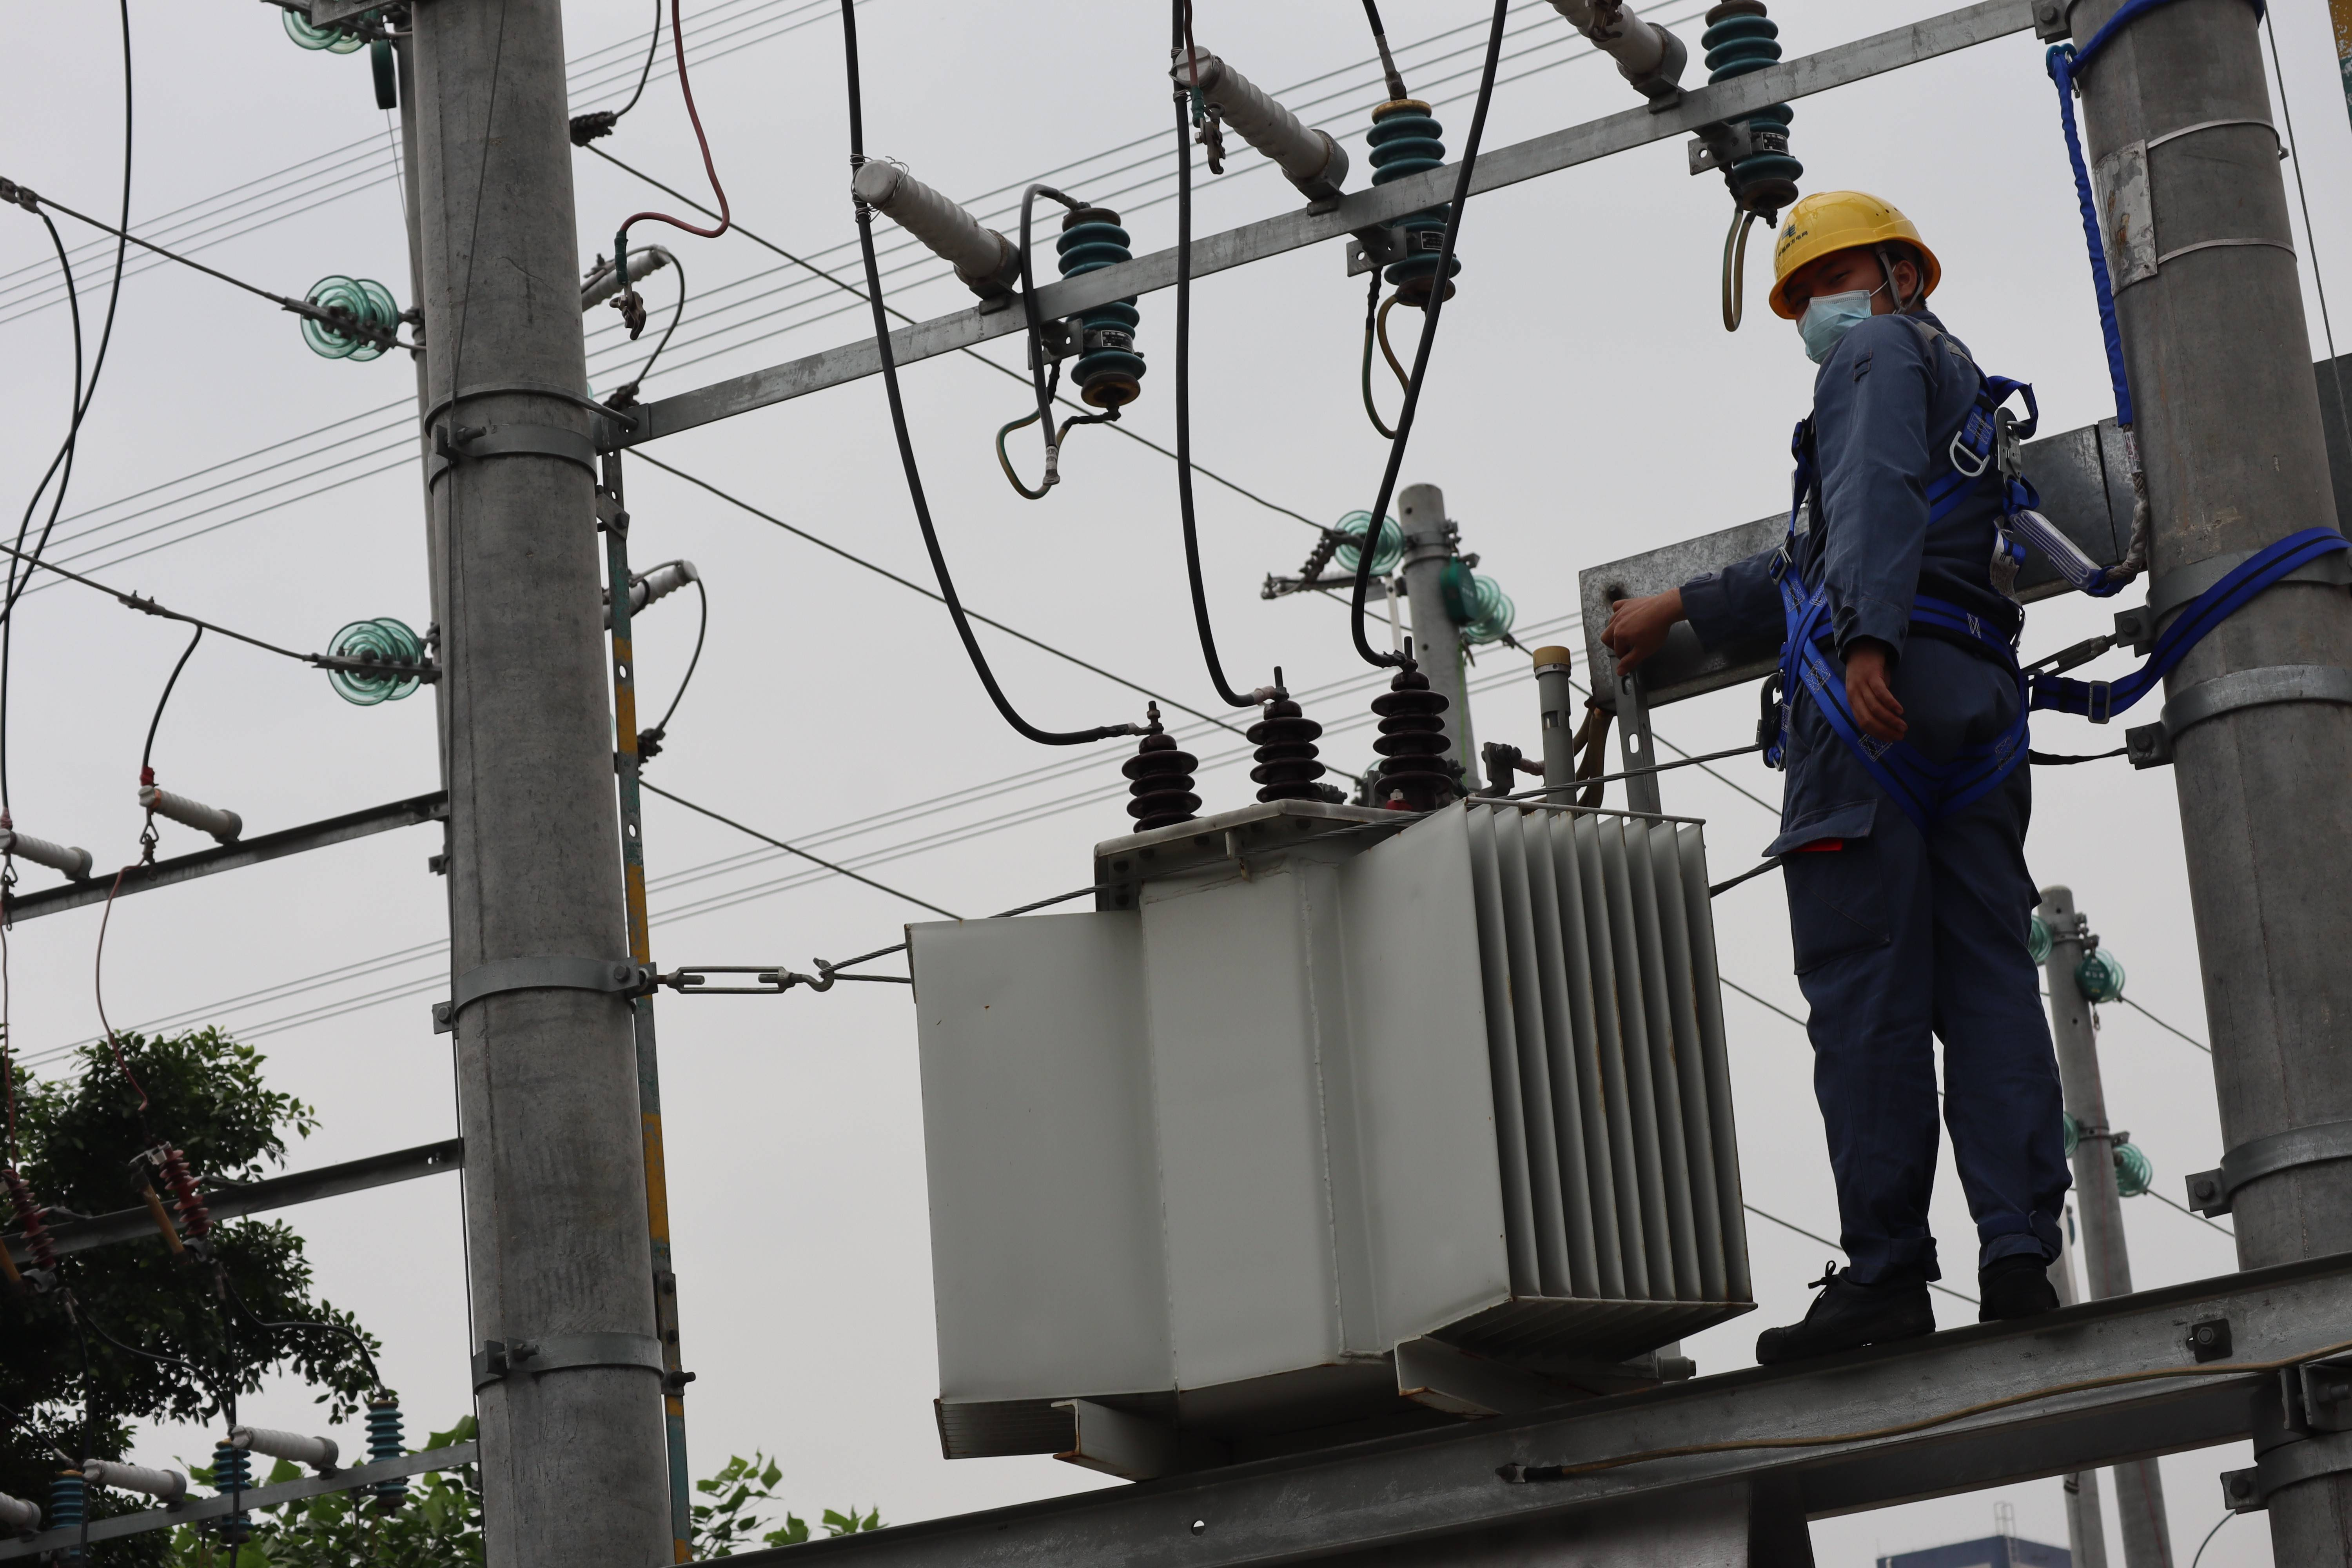downsuit: (1773, 668, 2079, 1269)
upsuit: (1785, 324, 2016, 630)
